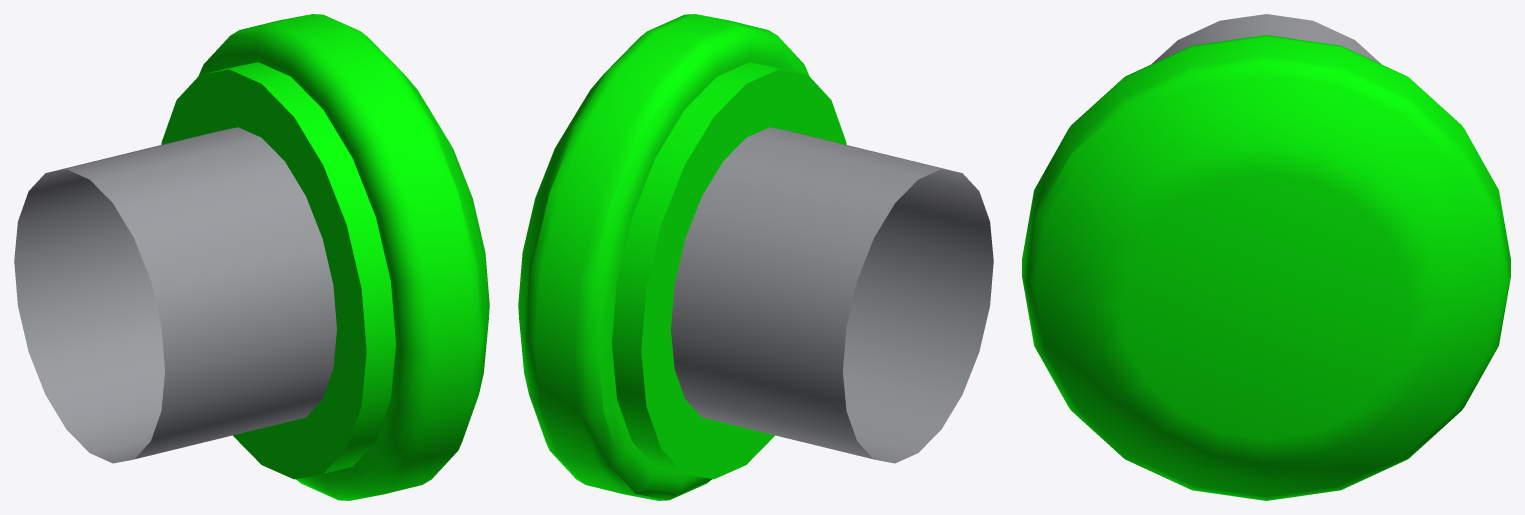
The model's file is buttonGreen.fbx.
3 views of the same model, side by side, from view 1: azimuth 30°, elevation 25°; view 2: azimuth 150°, elevation 25°; view 3: azimuth 270°, elevation 25° (orthographic).
Parts seen in each view (by area): view 1: pCylinder2; view 2: pCylinder2; view 3: pCylinder2.
Part boxes in pixels (x1,y1,x2,y2): pCylinder2: [14, 14, 489, 500]; pCylinder2: [518, 14, 993, 500]; pCylinder2: [1022, 14, 1510, 500].
Size of the model in its own units: 12.6 by 16.62 by 16.62.
Materials: 2 (2 with a texture image).
